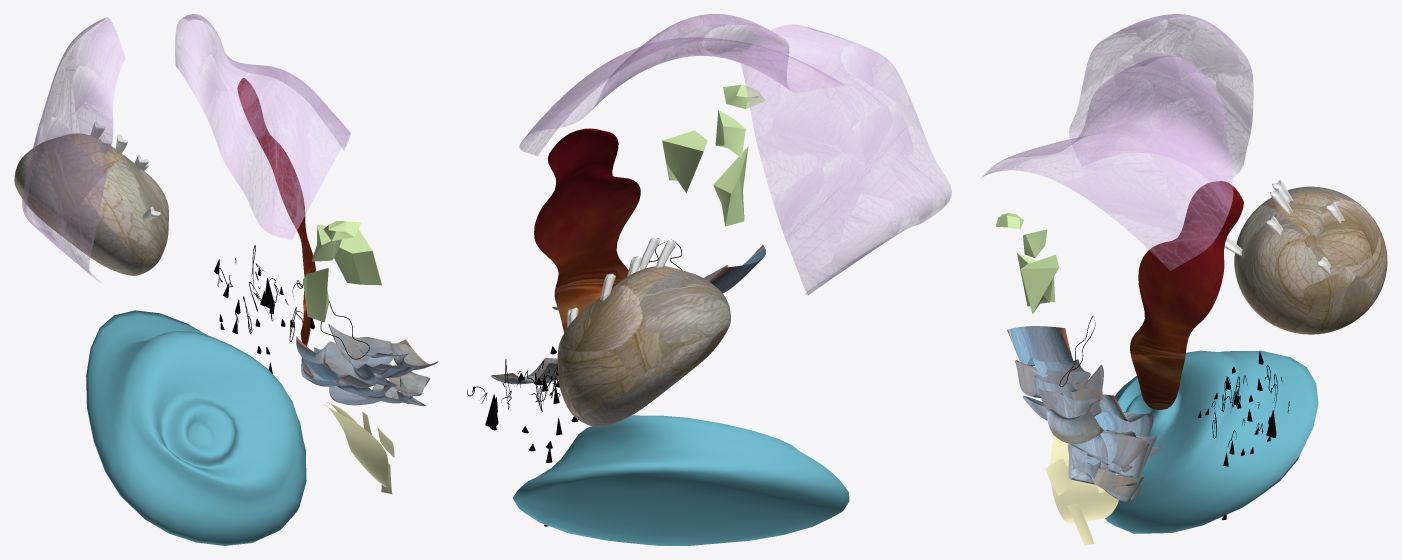
3 renders of one model, left to right at view 1: azimuth 30°, elevation 25°; view 2: azimuth 150°, elevation 25°; view 3: azimuth 270°, elevation 25°, orthographic. The views are drawn at different scales.
Visible parts, largest first — view 1: tear, sunlight, dead_orchids, mask, cleaning_products, skin, raw_potato, pepper, sharp_ends; view 2: sunlight, tear, dead_orchids, skin, cleaning_products, mask, pepper, sharp_ends; view 3: sunlight, tear, dead_orchids, skin, mask, raw_potato, cleaning_products, pepper, sharp_ends.
Part boxes in pixels (<box>): tear: <box>86,310,306,545</box>; sunlight: <box>22,14,350,282</box>; dead_orchids: <box>14,133,168,275</box>; mask: <box>296,324,437,406</box>; cleaning_products: <box>303,221,381,322</box>; skin: <box>237,78,315,346</box>; raw_potato: <box>323,402,394,494</box>; pepper: <box>214,245,314,373</box>; sharp_ends: <box>91,121,160,220</box>; sunlight: <box>519,14,951,295</box>; tear: <box>513,415,849,545</box>; dead_orchids: <box>557,266,730,426</box>; skin: <box>534,128,640,332</box>; cleaning_products: <box>662,84,765,226</box>; mask: <box>490,245,765,384</box>; pepper: <box>467,346,577,526</box>; sharp_ends: <box>567,237,687,327</box>; sunlight: <box>981,14,1253,270</box>; tear: <box>1105,350,1318,533</box>; dead_orchids: <box>1234,186,1387,334</box>; skin: <box>1130,181,1243,409</box>; mask: <box>1007,326,1164,501</box>; raw_potato: <box>1045,435,1118,545</box>; cleaning_products: <box>995,213,1059,314</box>; pepper: <box>1197,351,1289,520</box>; sharp_ends: <box>1224,179,1344,274</box>.
Size of the model in its own units: 111 by 141 by 114.
Materials: 9 (4 with a texture image).
